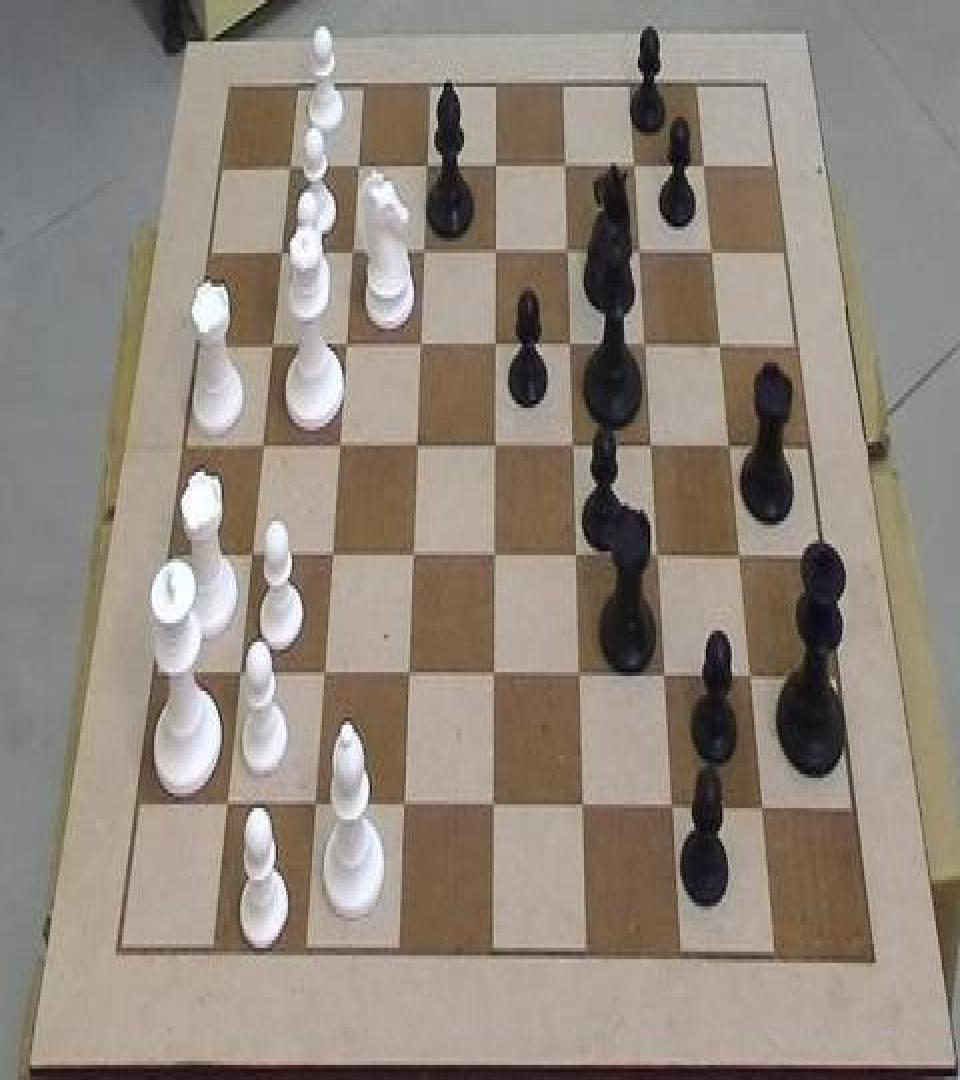xcorner: (692, 147, 712, 185), (622, 147, 642, 185), (553, 147, 573, 185), (484, 147, 504, 185), (416, 147, 436, 185), (347, 147, 367, 185), (279, 146, 299, 184), (700, 232, 720, 270), (628, 232, 648, 270), (556, 232, 576, 270), (484, 232, 504, 270), (413, 232, 433, 270), (341, 232, 361, 270), (270, 232, 290, 270), (709, 326, 729, 364), (634, 326, 654, 364), (559, 326, 579, 364), (484, 324, 504, 362), (410, 324, 430, 362), (335, 324, 355, 362), (261, 324, 281, 362), (719, 428, 739, 466), (640, 428, 660, 466), (562, 426, 582, 464), (484, 426, 504, 464), (406, 426, 426, 464), (328, 424, 348, 462), (251, 424, 271, 462), (729, 540, 749, 578), (647, 538, 667, 576), (565, 538, 585, 576), (484, 538, 504, 576), (402, 536, 422, 574), (321, 536, 341, 574), (240, 534, 260, 572), (741, 660, 761, 698), (655, 660, 675, 698), (569, 659, 589, 697), (484, 659, 504, 697), (398, 657, 418, 695), (313, 657, 333, 695), (228, 655, 248, 693), (754, 795, 774, 833), (663, 795, 683, 833), (573, 793, 593, 831), (483, 791, 503, 829), (394, 791, 414, 829), (304, 789, 324, 827), (215, 789, 235, 827)
